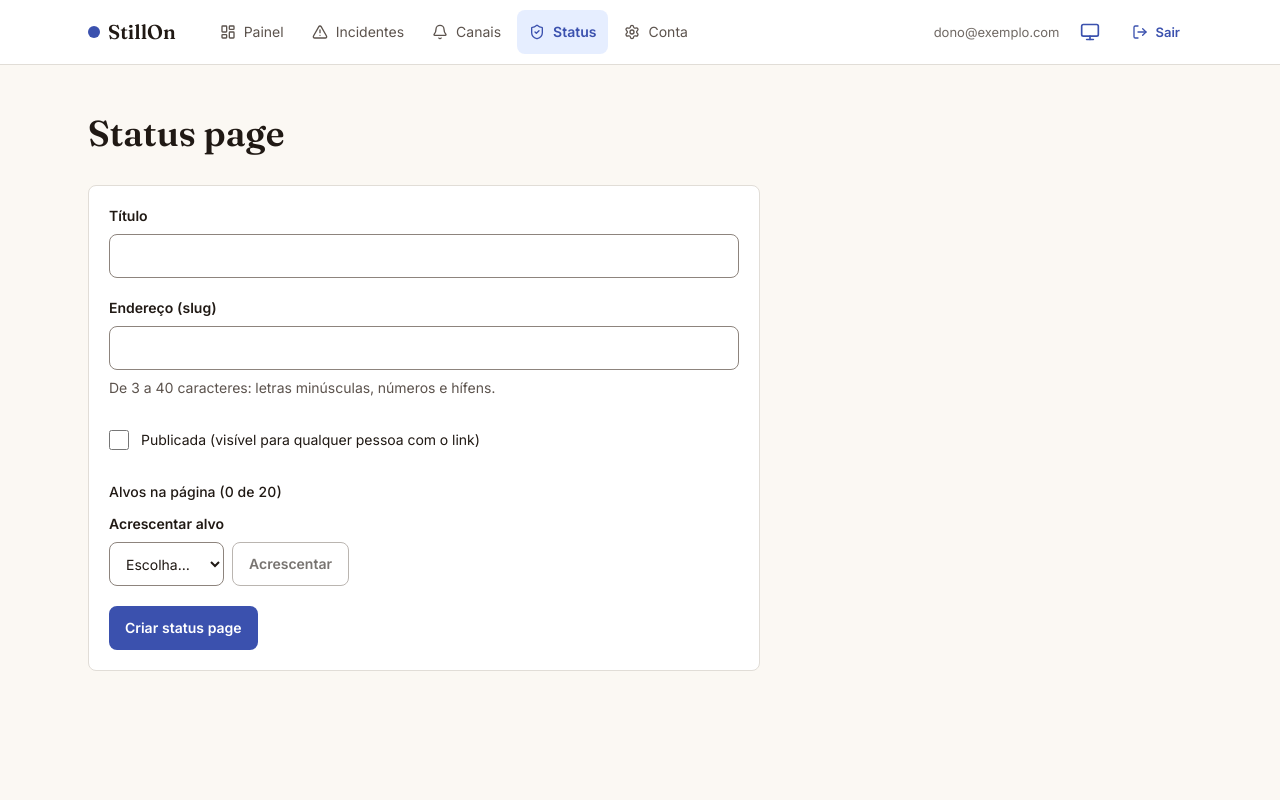
Test case: status page › outra aba criou a página: o 409 status_page_exists recarrega, e o aviso sobrevive à troca do formulário
Type "Minha" into the field labelled "Título" at (424, 256), box 109,234 -> 739,278
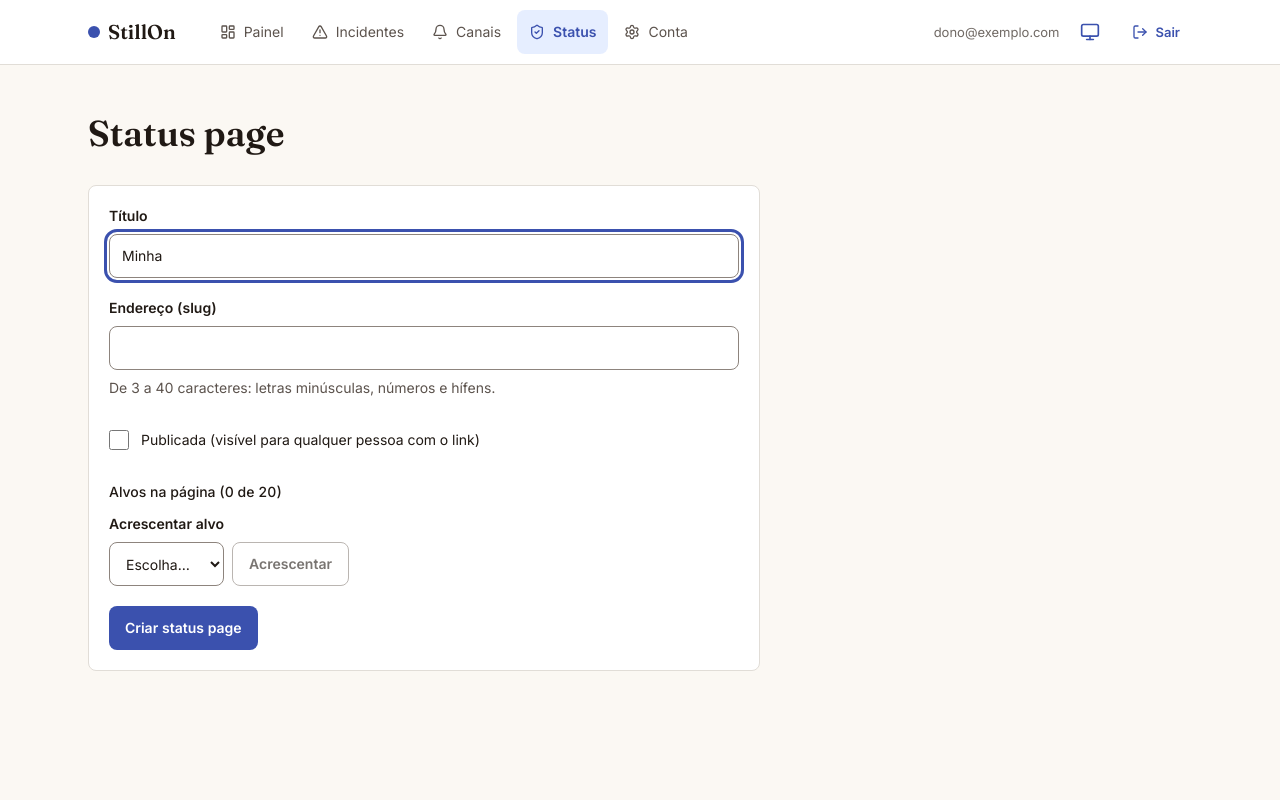
Press Tab
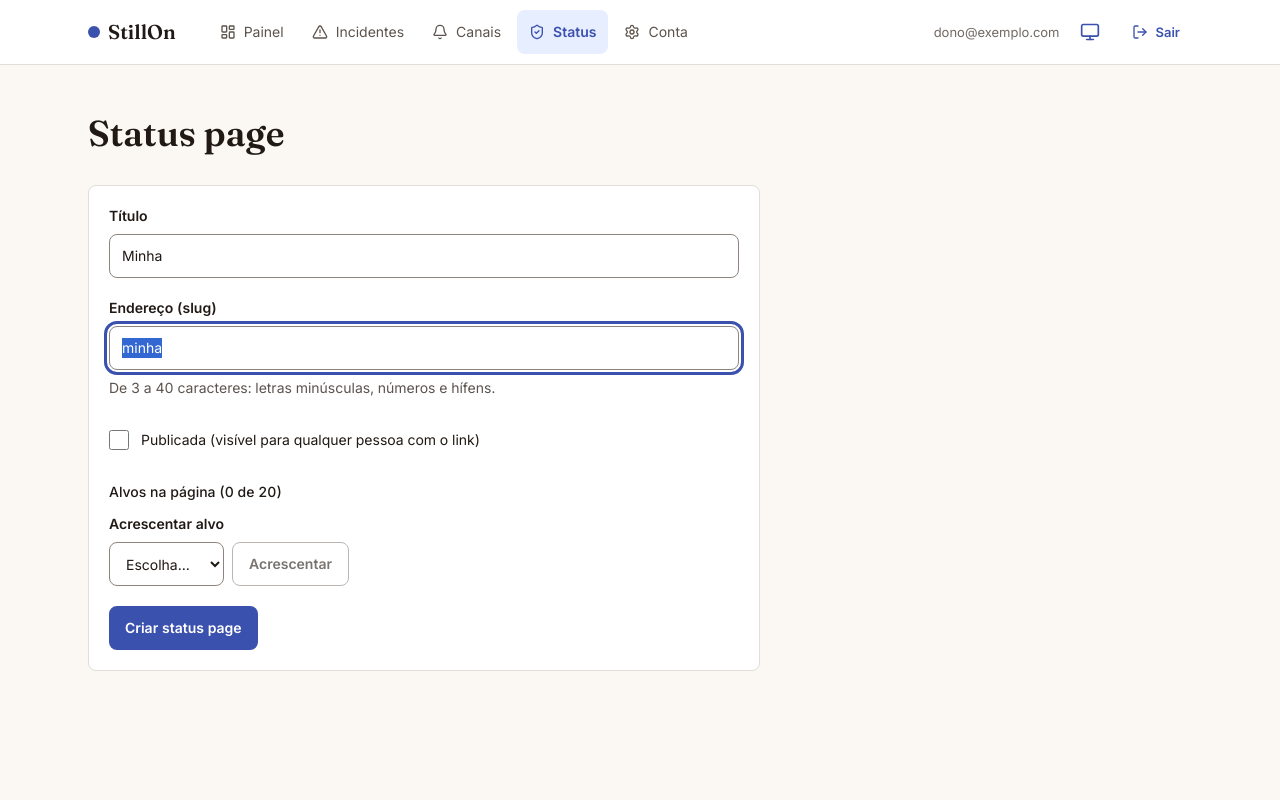
Click the button "Criar status page" at (183, 628), box 109,606 -> 258,650
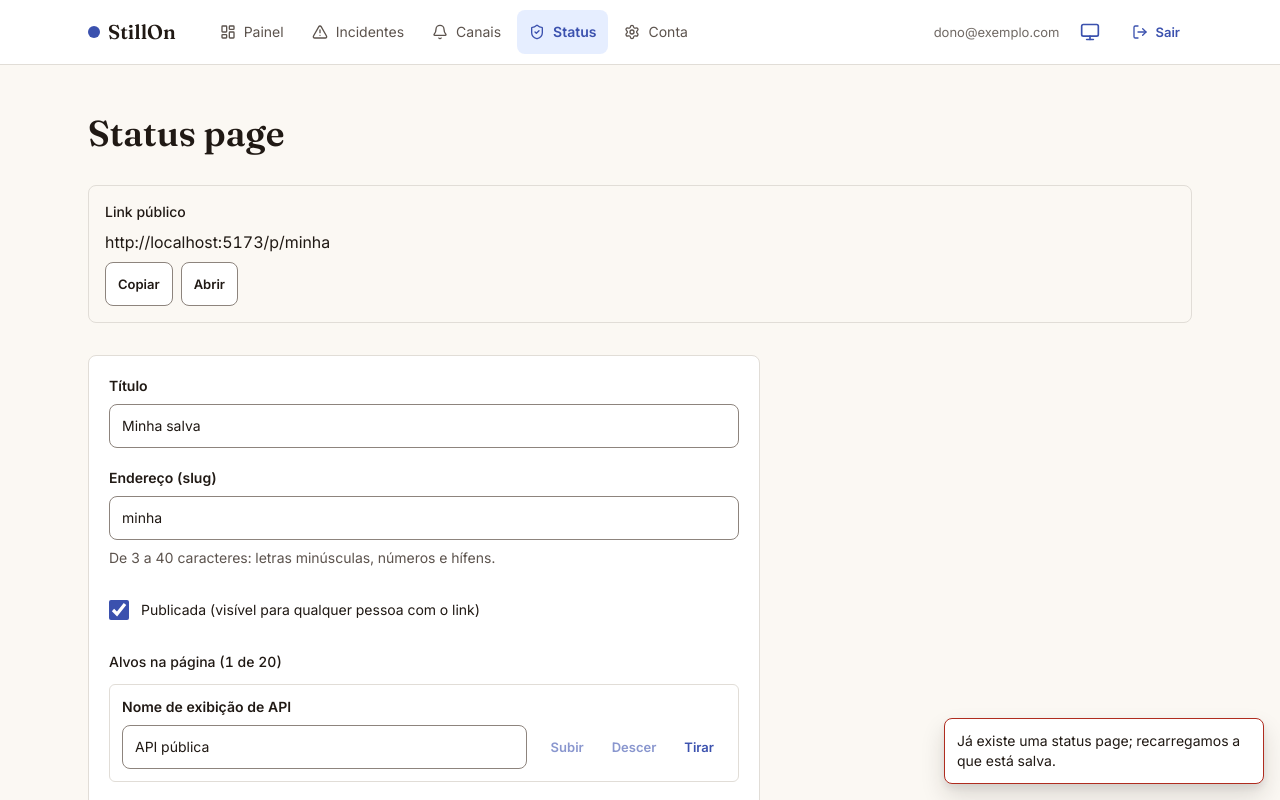
Expected: the field labelled "Título" holds "Minha salva", 109,404 -> 739,448
Expected: the text "Já existe uma status page; recarregamos a que está salva." is shown, 957,731 -> 1251,771
